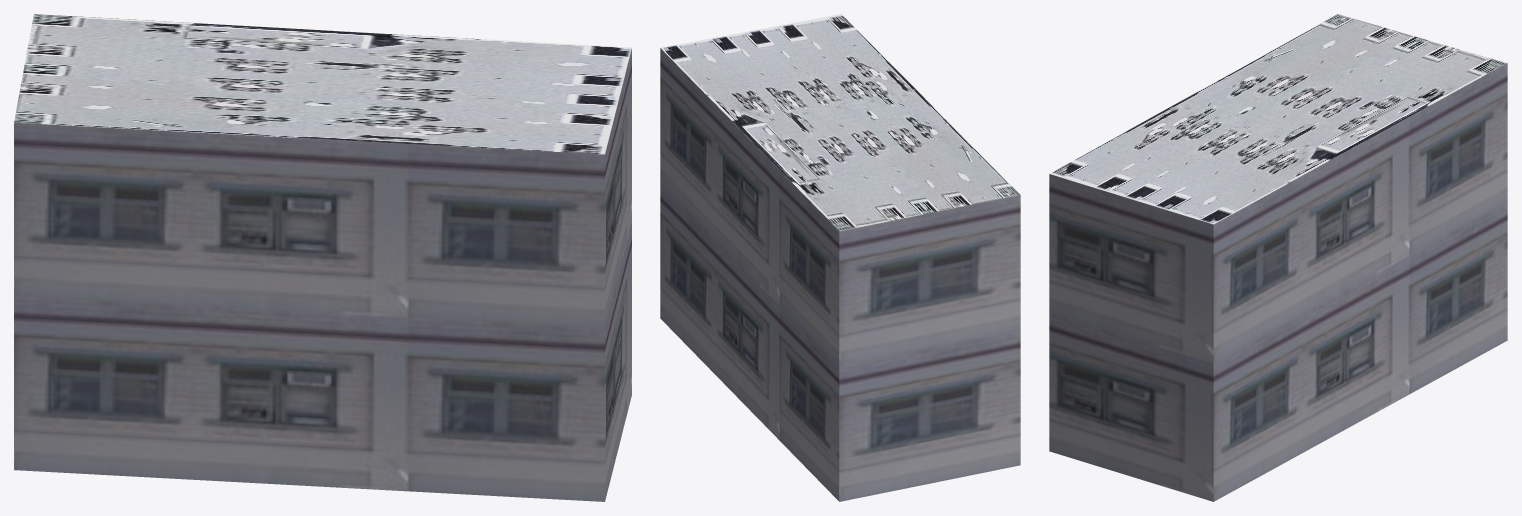
File: ResTex__2393.fbx
3 renders of one model, left to right at view 1: azimuth 30°, elevation 25°; view 2: azimuth 150°, elevation 25°; view 3: azimuth 270°, elevation 25°, orthographic. The views are drawn at different scales.
Parts seen in each view (by area): view 1: CityEngineMaterial_1_m, CityEngineMaterial_m; view 2: CityEngineMaterial_1_m, CityEngineMaterial_m; view 3: CityEngineMaterial_1_m, CityEngineMaterial_m.
Part boxes in pixels (x1,y1,x2,y2): CityEngineMaterial_1_m: (14, 48, 631, 501); CityEngineMaterial_m: (14, 14, 631, 154); CityEngineMaterial_1_m: (660, 48, 1020, 501); CityEngineMaterial_m: (661, 14, 1020, 231); CityEngineMaterial_1_m: (1049, 63, 1507, 501); CityEngineMaterial_m: (1050, 14, 1506, 224).
Bounding box in the file's own units: 9.77 × 6 × 8.98.
2 materials, 2 textured.
